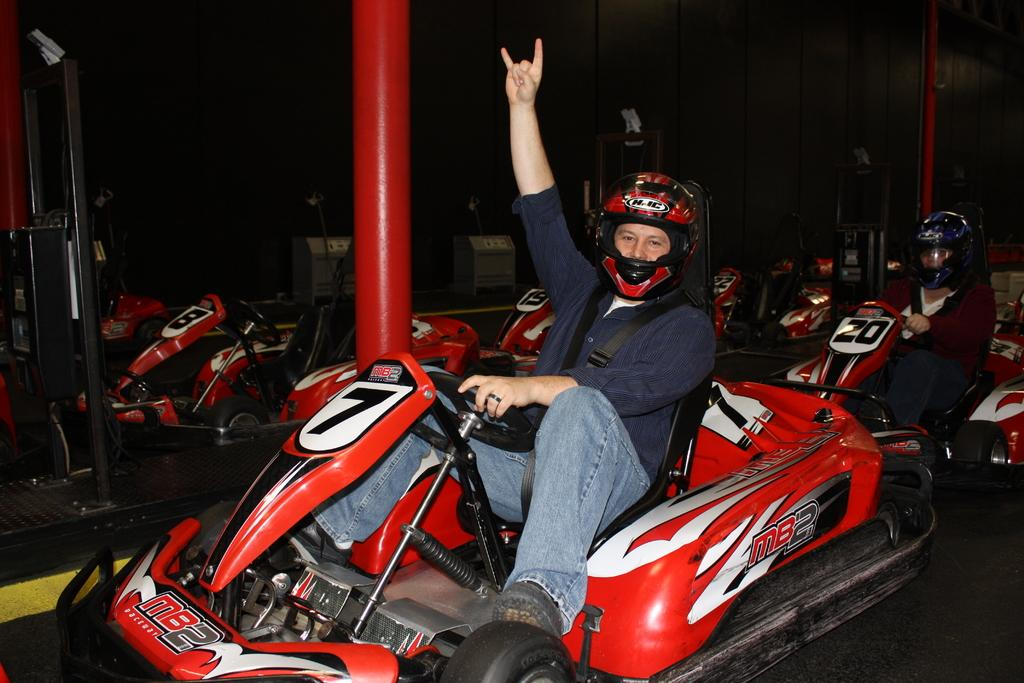helmet: (594, 172, 701, 301), (911, 211, 974, 290)
